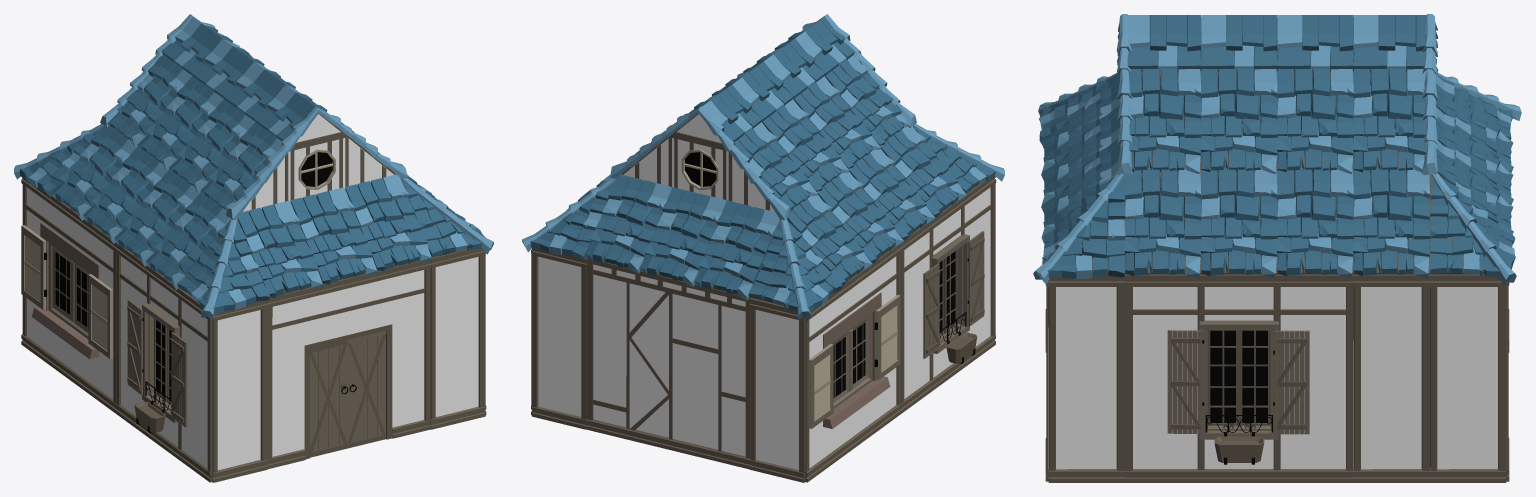
The model's file is house_07_full.glb.
3 views of the same model, side by side, from view 1: azimuth 30°, elevation 25°; view 2: azimuth 150°, elevation 25°; view 3: azimuth 270°, elevation 25° (orthographic). The views are drawn at different scales.
Parts seen in each view (by area): view 1: DOOR_03_2, WINDOW_05_3, WINDOW_06_2, WALL_03_3, WALL_03_4, ROOF_base_12, ROOF_base_24, ROOF_base_21, ROOF_corner_out_5, ROOF_base_14, ROOF_base_18, ROOF_base_17 (+18 smaller); view 2: WALL_05_2, WINDOW_06_2, WINDOW_05_3, WALL_03_9, WALL_03_8, ROOF_base_22, ROOF_base_23, ROOF_base_11, ROOF_corner_out_4, ROOF_base_18, ROOF_base_17, ROOF_base_14 (+18 smaller); view 3: WINDOW_05_2, WALL_03_6, WALL_03_7, WALL_03_5, ROOF_base_6, ROOF_base_8, ROOF_base_3, ROOF_base_10, ROOF_base_5, ROOF_base_7, ROOF_base_4, ROOF_base_9 (+18 smaller).
Part boxes in pixels (left/top/right/bottom): DOOR_03_2: left=267, top=260, right=430, bottom=468; WINDOW_05_3: left=115, top=242, right=212, bottom=482; WINDOW_06_2: left=21, top=176, right=116, bottom=413; WALL_03_3: left=430, top=248, right=485, bottom=429; WALL_03_4: left=212, top=300, right=267, bottom=482; ROOF_base_12: left=345, top=174, right=431, bottom=271; ROOF_base_24: left=290, top=187, right=376, bottom=284; ROOF_base_21: left=237, top=200, right=322, bottom=297; ROOF_corner_out_5: left=177, top=218, right=269, bottom=319; ROOF_base_14: left=146, top=192, right=230, bottom=289; ROOF_base_18: left=83, top=146, right=169, bottom=243; ROOF_base_17: left=114, top=169, right=200, bottom=266; WALL_05_2: left=586, top=258, right=750, bottom=469; WINDOW_06_2: left=805, top=245, right=901, bottom=482; WINDOW_05_3: left=900, top=176, right=996, bottom=413; WALL_03_9: left=749, top=298, right=805, bottom=482; WALL_03_8: left=532, top=248, right=587, bottom=429; ROOF_base_22: left=694, top=200, right=779, bottom=300; ROOF_base_23: left=640, top=187, right=725, bottom=287; ROOF_base_11: left=585, top=174, right=671, bottom=274; ROOF_corner_out_4: left=749, top=218, right=842, bottom=319; ROOF_base_18: left=817, top=172, right=903, bottom=263; ROOF_base_17: left=848, top=149, right=935, bottom=240; ROOF_base_14: left=880, top=126, right=966, bottom=217; WINDOW_05_2: left=1125, top=274, right=1353, bottom=482; WALL_03_6: left=1353, top=274, right=1429, bottom=482; WALL_03_7: left=1430, top=274, right=1506, bottom=482; WALL_03_5: left=1048, top=274, right=1124, bottom=482; ROOF_base_6: left=1276, top=167, right=1353, bottom=278; ROOF_base_8: left=1200, top=167, right=1277, bottom=278; ROOF_base_3: left=1353, top=167, right=1430, bottom=278; ROOF_base_10: left=1124, top=167, right=1201, bottom=278; ROOF_base_5: left=1276, top=67, right=1353, bottom=173; ROOF_base_7: left=1200, top=68, right=1277, bottom=173; ROOF_base_4: left=1353, top=68, right=1429, bottom=172; ROOF_base_9: left=1125, top=68, right=1201, bottom=173.
Size of the model in its own units: 5.82 by 5.6 by 6.41.
Materials: 1 (1 with a texture image).
